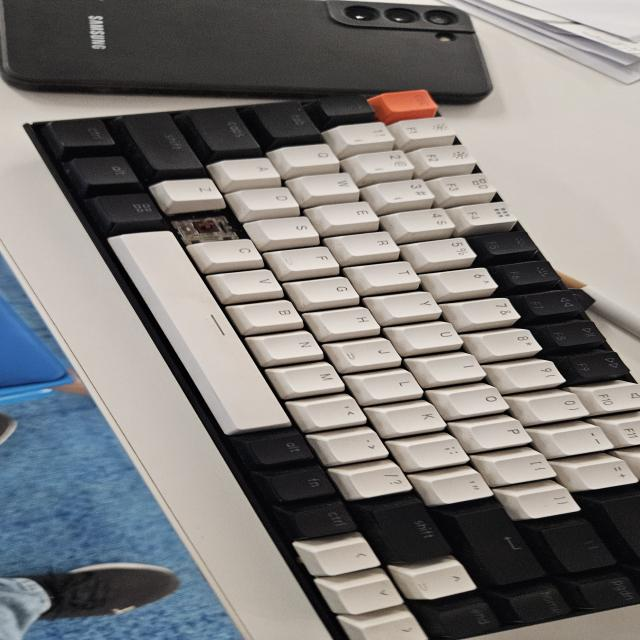C: (185, 216, 228, 234)
